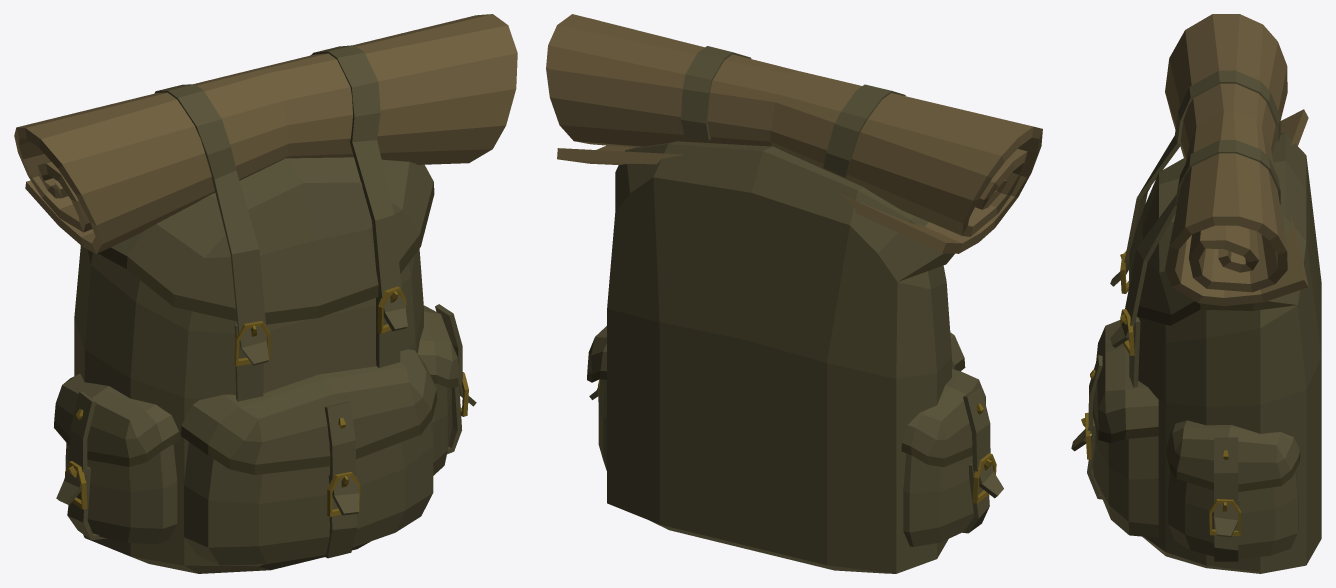
The model's file is backpack-quaternius_2g9Jm7kvIU.glb.
3 renders of one model, left to right at view 1: azimuth 30°, elevation 25°; view 2: azimuth 150°, elevation 25°; view 3: azimuth 270°, elevation 25°, orthographic. The views are drawn at different scales.
Visible parts, largest first — view 1: Backpack; view 2: Backpack; view 3: Backpack.
Boxes of the visible parts, left/top/right/bottom form: Backpack: left=14, top=14, right=517, bottom=573; Backpack: left=546, top=14, right=1042, bottom=573; Backpack: left=1071, top=14, right=1321, bottom=573.
Bounding box in the file's own units: 3.34 × 3.12 × 1.75.
